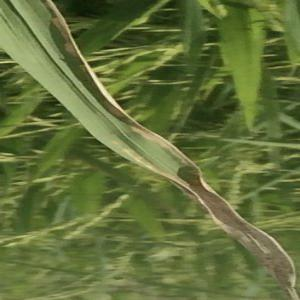2 BacterialBlight: (108, 128, 196, 182)
